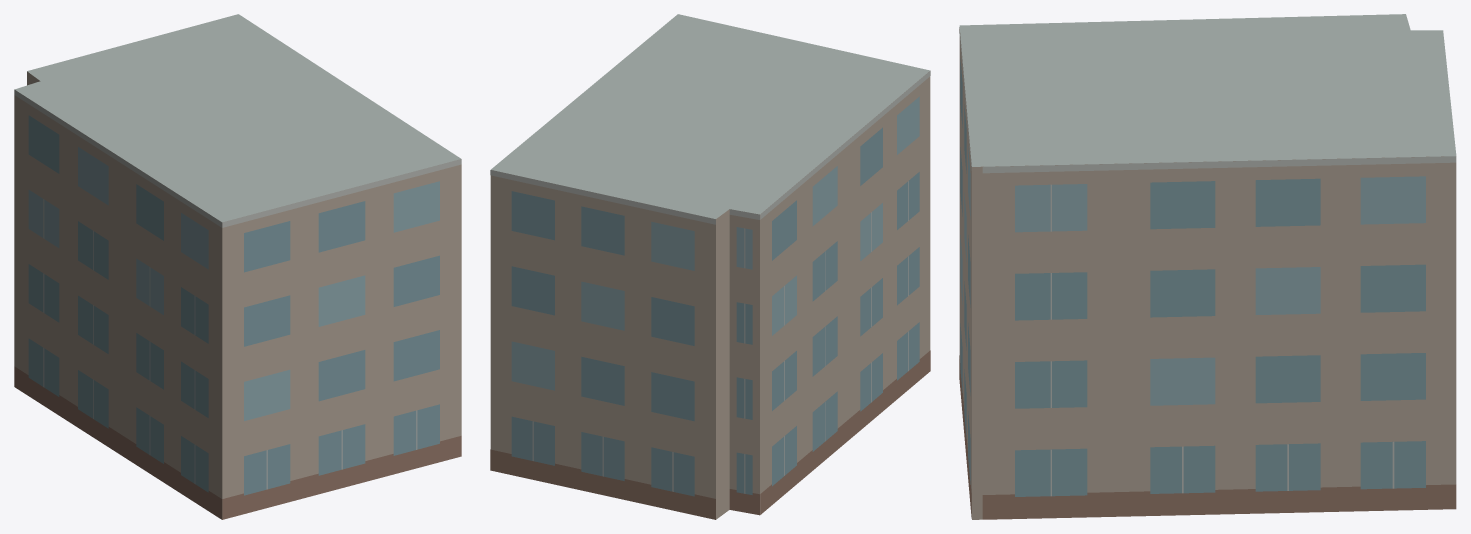
File: survey-upis-32742156.glb
3 views of the same model, side by side, from view 1: azimuth 30°, elevation 25°; view 2: azimuth 150°, elevation 25°; view 3: azimuth 270°, elevation 25° (orthographic). The views are drawn at different scales.
Visible parts, largest first — view 1: survey-upis-32742156.tmp; view 2: survey-upis-32742156.tmp; view 3: survey-upis-32742156.tmp.
Part boxes in pixels (x1,y1,x2,y2): survey-upis-32742156.tmp: (14, 14, 461, 519); survey-upis-32742156.tmp: (490, 14, 930, 519); survey-upis-32742156.tmp: (959, 14, 1456, 519).
Size of the model in its own units: 12.18 by 13.1 by 16.73.
